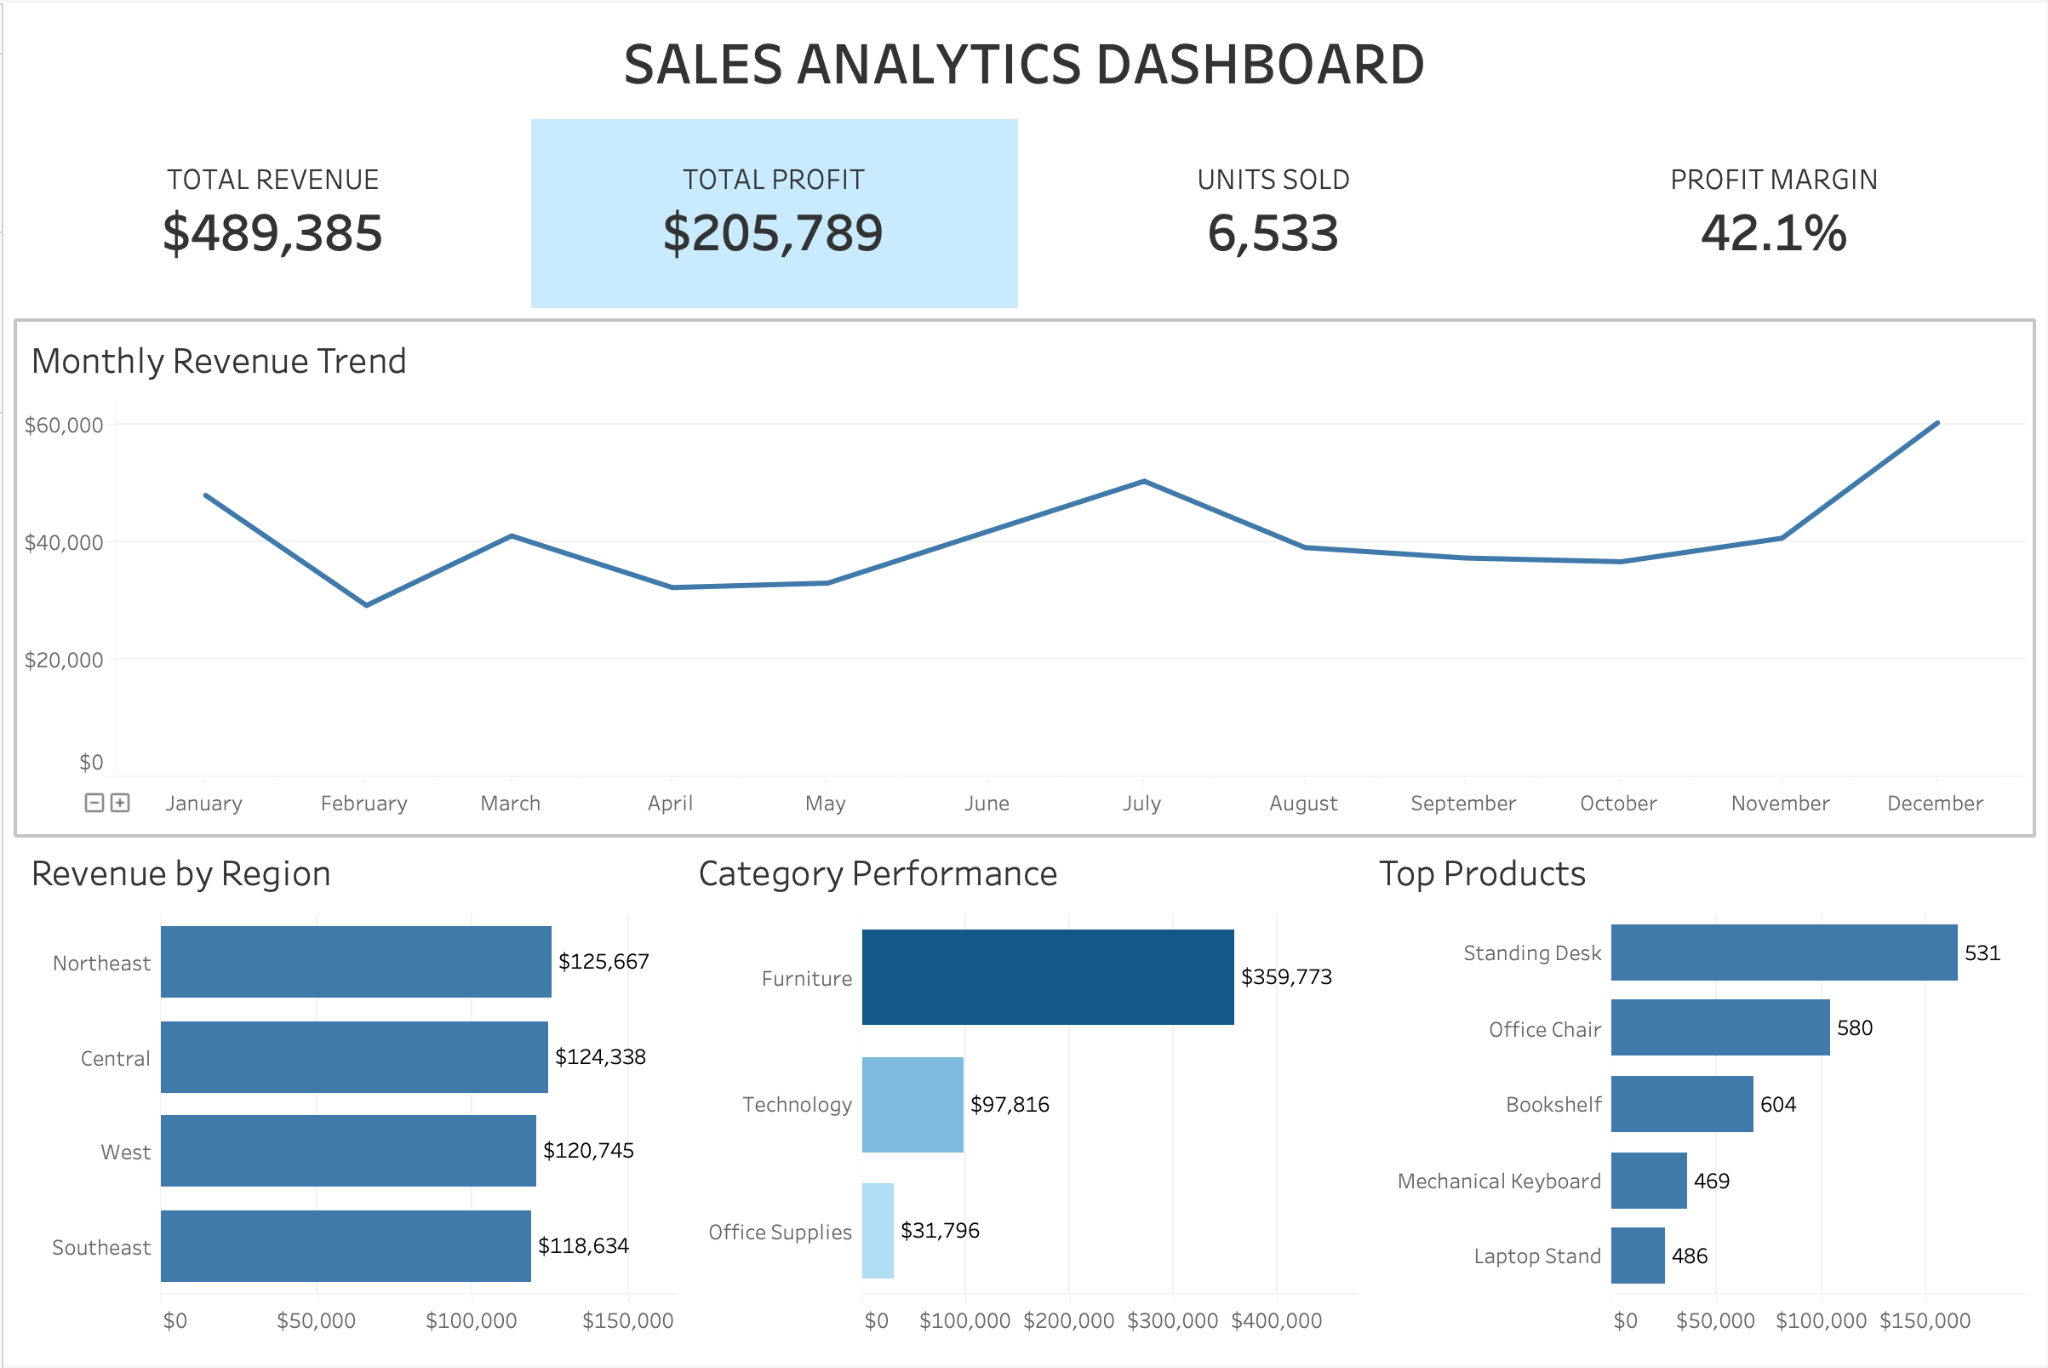

This screenshot's page, from the dashboard's own definition file:
{"tool":"tableau","page":{"name":"SALES ANALYTICS DASHBOARD","canvas":[1200,800],"ordinal":0},"visuals":[{"type":"title","box":[8,8,1184,52]},{"type":"worksheet","title":"Total Revenue","mark":"Automatic","box":[12,64,294,118.6]},{"type":"worksheet","title":"Total Profit","mark":"Automatic","box":[306,64,294,118.6]},{"type":"worksheet","title":"Units Sold","mark":"Automatic","box":[600,64,294,118.6]},{"type":"worksheet","title":"Profit Margin","mark":"Automatic","box":[894,64,294,118.6]},{"type":"worksheet","title":"Monthly Revenue Trend","mark":"Automatic","rows":["Revenue"],"cols":["Order_Date"],"box":[8,186.6,1184,301.4]},{"type":"worksheet","title":"Revenue by Region","mark":"Automatic","rows":["Region"],"cols":["Revenue"],"box":[8,488,392,304]},{"type":"worksheet","title":"Category Performance","mark":"Automatic","rows":["Category"],"cols":["Revenue"],"box":[400,488,400,304]},{"type":"worksheet","title":"Top Products","mark":"Automatic","rows":["Product"],"cols":["Revenue"],"box":[800,488,392,304]}]}

Visuals, with their boxes in screenshot pixels (x1, y1, x2, y2), scaled from the page's 1200x800 canvas onto the 2048x1368 screenshot:
title: <bbox>14, 14, 2034, 103</bbox>
"Total Revenue" worksheet: <bbox>20, 109, 522, 312</bbox>
"Total Profit" worksheet: <bbox>522, 109, 1024, 312</bbox>
"Units Sold" worksheet: <bbox>1024, 109, 1526, 312</bbox>
"Profit Margin" worksheet: <bbox>1526, 109, 2028, 312</bbox>
"Monthly Revenue Trend" worksheet: <bbox>14, 319, 2034, 834</bbox>
"Revenue by Region" worksheet: <bbox>14, 834, 683, 1354</bbox>
"Category Performance" worksheet: <bbox>683, 834, 1365, 1354</bbox>
"Top Products" worksheet: <bbox>1365, 834, 2034, 1354</bbox>
